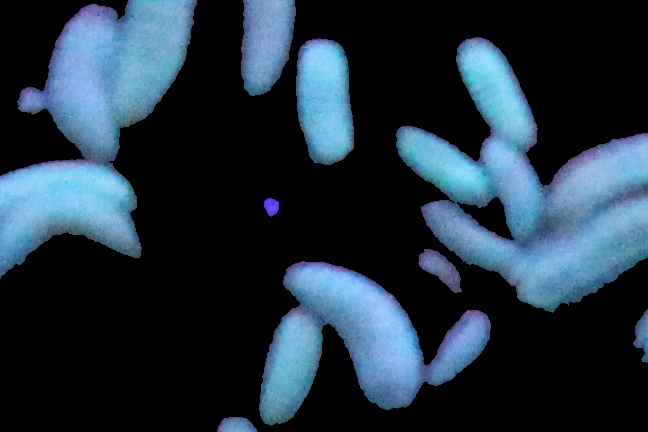larvae: (283, 254, 421, 406), (521, 205, 648, 313), (1, 194, 143, 281), (46, 4, 121, 154), (119, 1, 198, 125), (455, 34, 535, 152), (541, 120, 648, 205), (394, 119, 492, 208), (419, 199, 533, 274), (1, 155, 136, 216), (259, 306, 322, 425), (295, 38, 353, 165), (481, 136, 546, 237), (420, 308, 491, 386), (242, 1, 294, 96)
